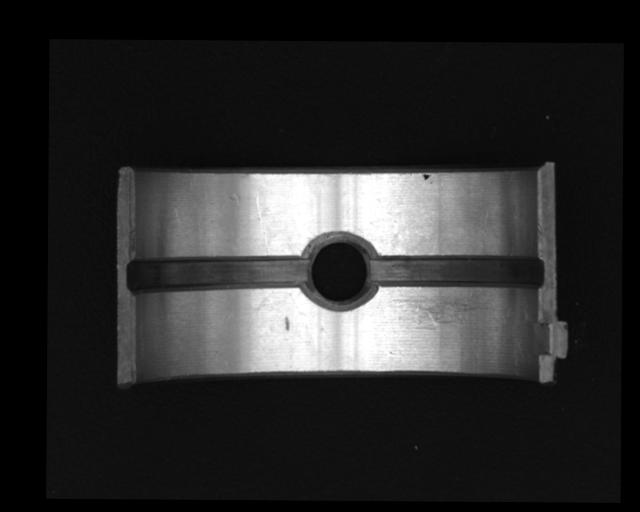blot: (422, 172, 431, 182)
bruise: (284, 315, 291, 331)
gap: (127, 255, 311, 295), (370, 254, 543, 290)
hole: (304, 232, 378, 307)
nick: (254, 196, 269, 255)
scratch: (388, 294, 495, 329)
